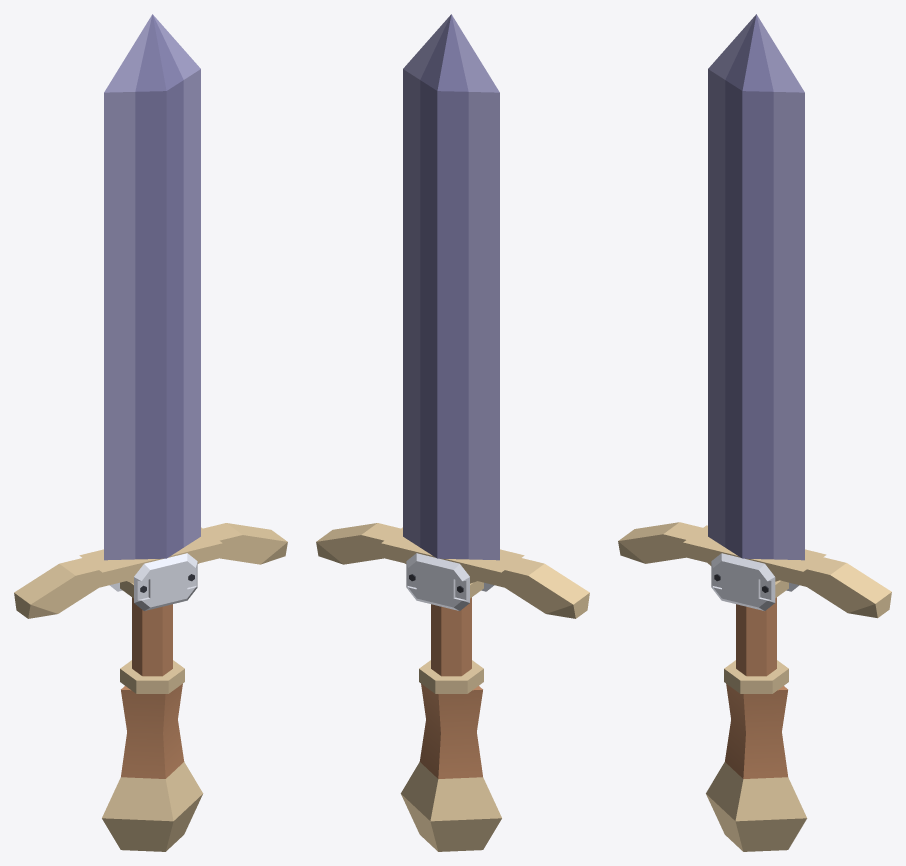
Rendered from Sword.fbx.
The picture shows the model from 3 angles, left to right: view 1: azimuth 30°, elevation 25°; view 2: azimuth 150°, elevation 25°; view 3: azimuth 330°, elevation 25°; orthographic projection.
Visible parts, largest first — view 1: blade_dual_middle, blade_dual, hilt_long_wide, guard_detailed, hilt_handle, detail_panelBoltsSmall; view 2: blade_dual_middle, blade_dual, hilt_long_wide, guard_detailed, hilt_handle, detail_panelBoltsSmall; view 3: blade_dual_middle, blade_dual, hilt_long_wide, guard_detailed, hilt_handle, detail_panelBoltsSmall.
Part boxes in pixels (x1,y1,x2,y2): blade_dual_middle: (104,269,200,560); blade_dual: (104,14,200,292); hilt_long_wide: (102,684,203,851); guard_detailed: (14,523,287,618); hilt_handle: (120,581,184,693); detail_panelBoltsSmall: (134,553,197,610); blade_dual_middle: (403,269,499,560); blade_dual: (403,14,499,292); hilt_long_wide: (400,684,501,851); guard_detailed: (316,523,589,618); hilt_handle: (419,581,483,693); detail_panelBoltsSmall: (406,553,469,610); blade_dual_middle: (708,269,804,560); blade_dual: (708,14,804,292); hilt_long_wide: (706,683,807,851); guard_detailed: (618,522,891,618); hilt_handle: (724,580,788,693); detail_panelBoltsSmall: (711,553,775,610).
Size of the model in its own units: 10.08 by 31 by 2.86.
